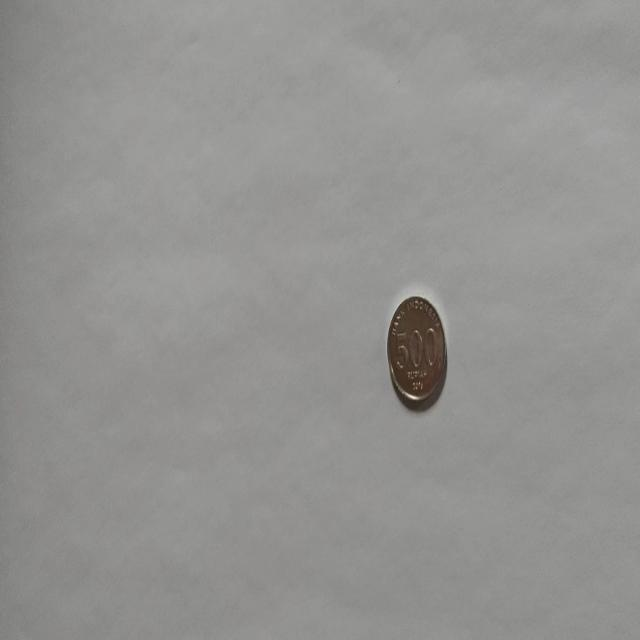lima ratus rupiah: (386, 293, 448, 410)
